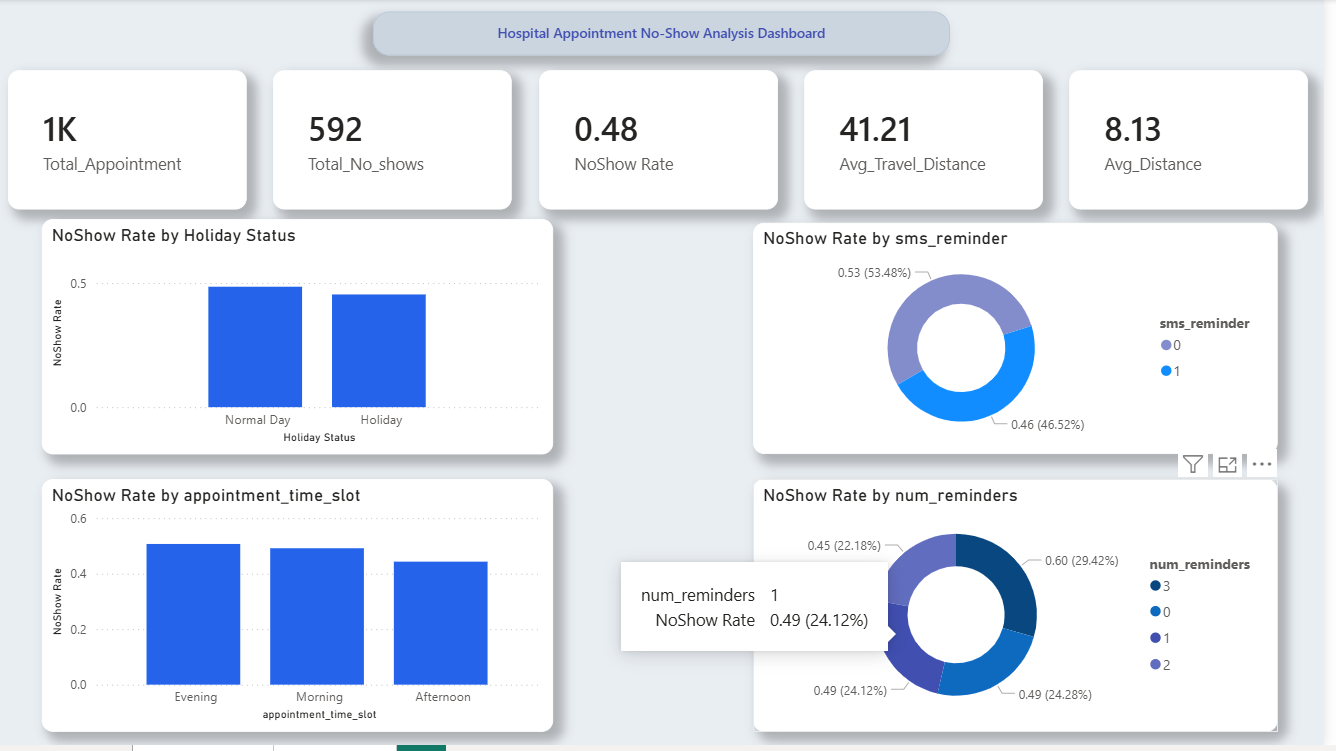

This screenshot's page, from the dashboard's own definition file:
{"tool":"powerbi","page":{"name":"Reminders","canvas":[1280,720],"ordinal":1},"visuals":[{"type":"textbox","box":[361.4,12.3,557.1,42.5],"z":0},{"type":"cardVisual","fields":{"Data":["hospital_appointment_no_show_5000.Total_Appointment"]},"box":[9.4,69,230.4,134.8],"z":1000},{"type":"cardVisual","fields":{"Data":["hospital_appointment_no_show_5000.Total_No_shows"]},"box":[265.6,69,230.4,134.8],"z":2000},{"type":"cardVisual","fields":{"Data":["hospital_appointment_no_show_5000.NoShow Rate"]},"box":[521.8,69,230.4,134.8],"z":3000},{"type":"cardVisual","fields":{"Data":["hospital_appointment_no_show_5000.Avg_Travel_Distance"]},"box":[778.1,69,230.4,134.8],"z":4000},{"type":"cardVisual","fields":{"Data":["hospital_appointment_no_show_5000.Avg_Distance"]},"box":[1034.3,69,230.4,134.8],"z":5000},{"type":"donutChart","fields":{"Category":["hospital_appointment_no_show_5000.sms_reminder"],"Y":["hospital_appointment_no_show_5000.NoShow Rate"]},"box":[877.9,223.4,341.1,223.4],"z":6000},{"type":"donutChart","fields":{"Category":["hospital_appointment_no_show_5000.num_reminders"],"Y":["hospital_appointment_no_show_5000.NoShow Rate"]},"box":[877.9,469.3,341.1,232],"z":7000},{"type":"clusteredColumnChart","fields":{"Y":["hospital_appointment_no_show_5000.NoShow Rate"],"Category":["hospital_appointment_no_show_5000.appointment_time_slot"]},"box":[462.3,223.4,355,280.5],"z":8000},{"type":"clusteredColumnChart","fields":{"Category":["hospital_appointment_no_show_5000.Holiday Status"],"Y":["hospital_appointment_no_show_5000.NoShow Rate"]},"box":[26,223.4,355,280.5],"z":11000}]}

Visuals, with their boxes in screenshot pixels (x1, y1, x2, y2), scaled from the page's 1280x720 canvas onto the 1336x751 screenshot:
textbox: x1=377, y1=13, x2=959, y2=57
cardVisual - hospital_appointment_no_show_5000.Total_Appointment: x1=10, y1=72, x2=250, y2=213
cardVisual - hospital_appointment_no_show_5000.Total_No_shows: x1=277, y1=72, x2=518, y2=213
cardVisual - hospital_appointment_no_show_5000.NoShow Rate: x1=545, y1=72, x2=785, y2=213
cardVisual - hospital_appointment_no_show_5000.Avg_Travel_Distance: x1=812, y1=72, x2=1053, y2=213
cardVisual - hospital_appointment_no_show_5000.Avg_Distance: x1=1080, y1=72, x2=1320, y2=213
donutChart - hospital_appointment_no_show_5000.sms_reminder x hospital_appointment_no_show_5000.NoShow Rate: x1=916, y1=233, x2=1272, y2=466
donutChart - hospital_appointment_no_show_5000.num_reminders x hospital_appointment_no_show_5000.NoShow Rate: x1=916, y1=490, x2=1272, y2=731
clusteredColumnChart - hospital_appointment_no_show_5000.NoShow Rate x hospital_appointment_no_show_5000.appointment_time_slot: x1=483, y1=233, x2=853, y2=526
clusteredColumnChart - hospital_appointment_no_show_5000.Holiday Status x hospital_appointment_no_show_5000.NoShow Rate: x1=27, y1=233, x2=398, y2=526
